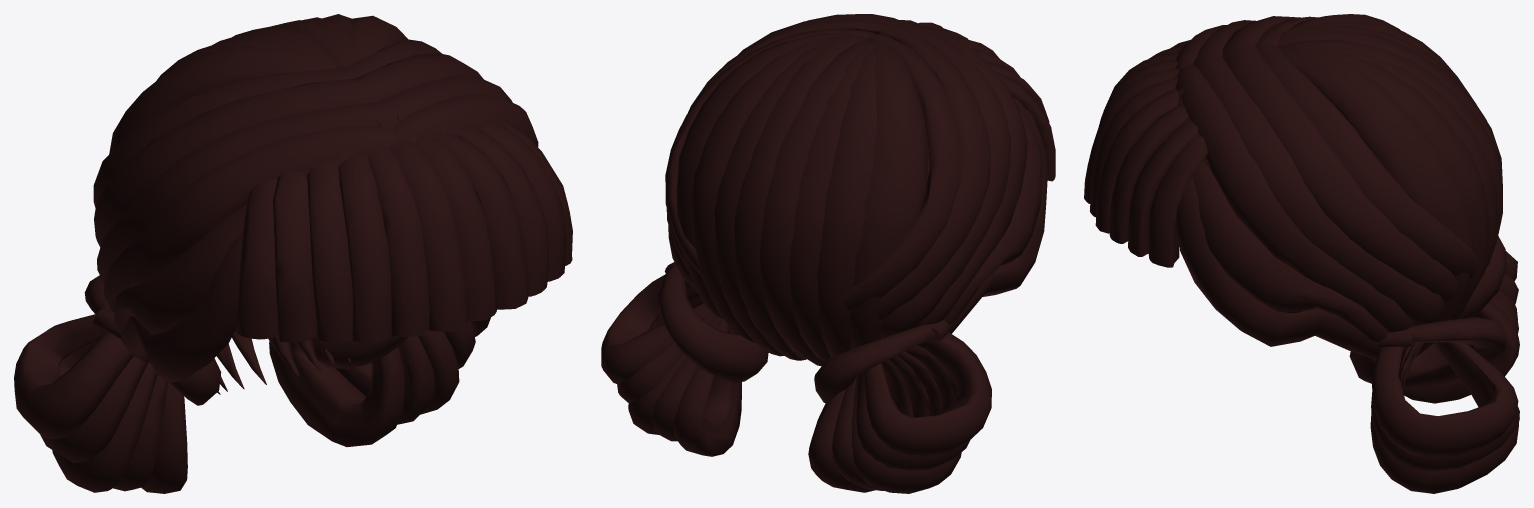
Rendered from hair-3-7bb87454.glb.
3 renders of one model, left to right at view 1: azimuth 30°, elevation 25°; view 2: azimuth 150°, elevation 25°; view 3: azimuth 270°, elevation 25°, orthographic. The views are drawn at different scales.
Parts seen in each view (by area): view 1: hair_3.001; view 2: hair_3.001; view 3: hair_3.001.
Part boxes in pixels (x1,y1,x2,y2): hair_3.001: (14, 14, 572, 493); hair_3.001: (601, 14, 1055, 493); hair_3.001: (1084, 14, 1519, 493).
Size of the model in its own units: 2.08 by 2.06 by 2.03.
